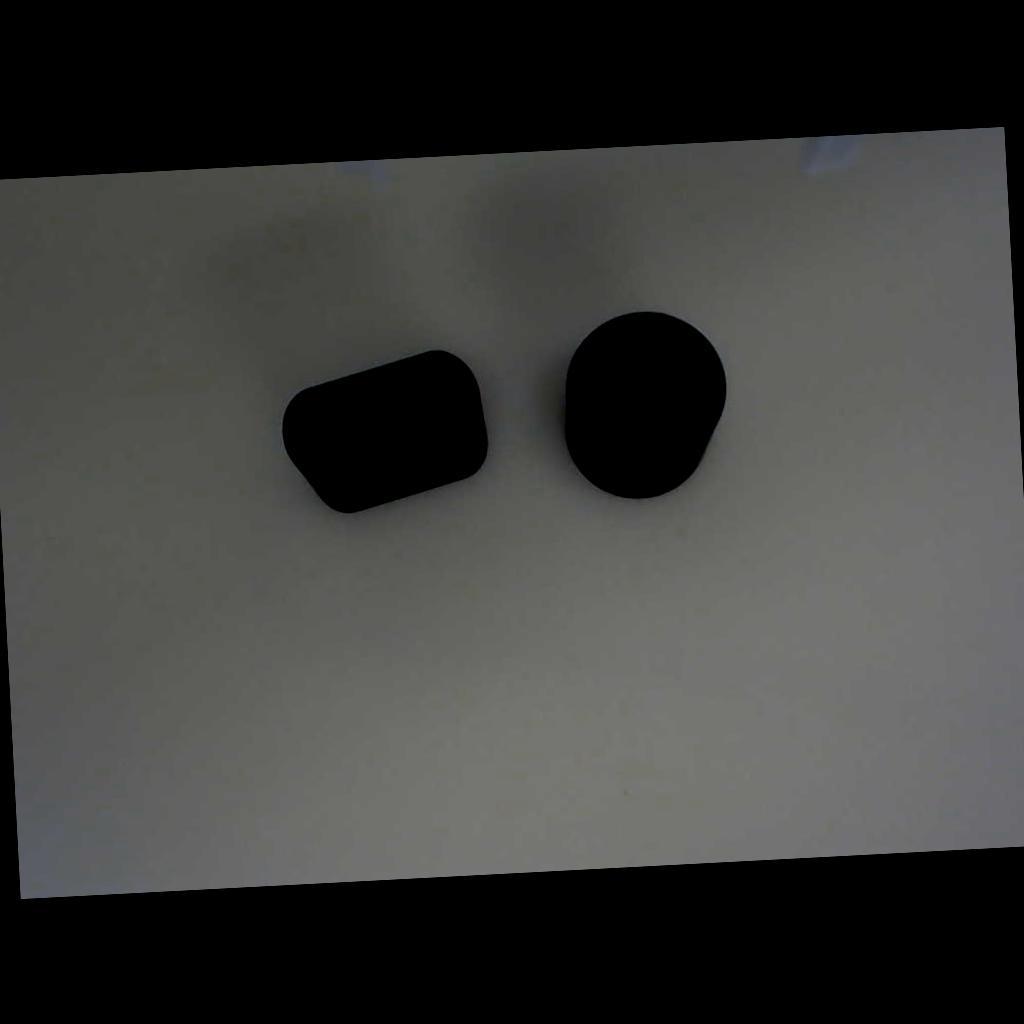circle: (548, 296, 742, 514)
oval: (255, 319, 517, 539)
